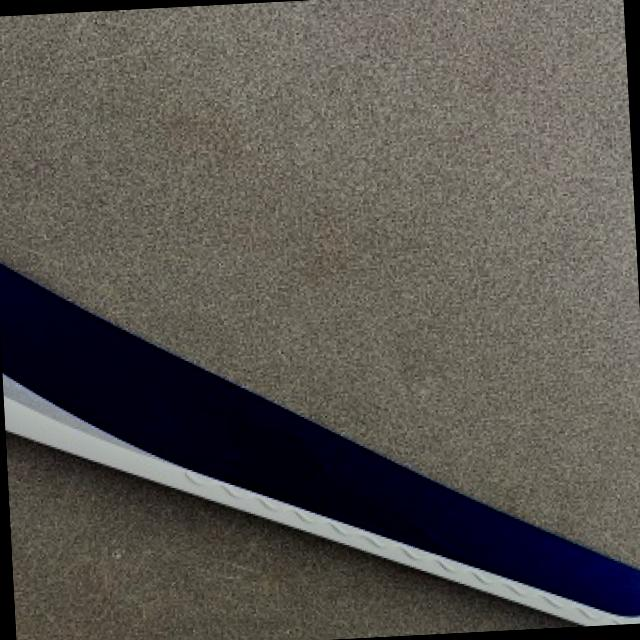healthy: (0, 0, 640, 564), (8, 433, 575, 640)
